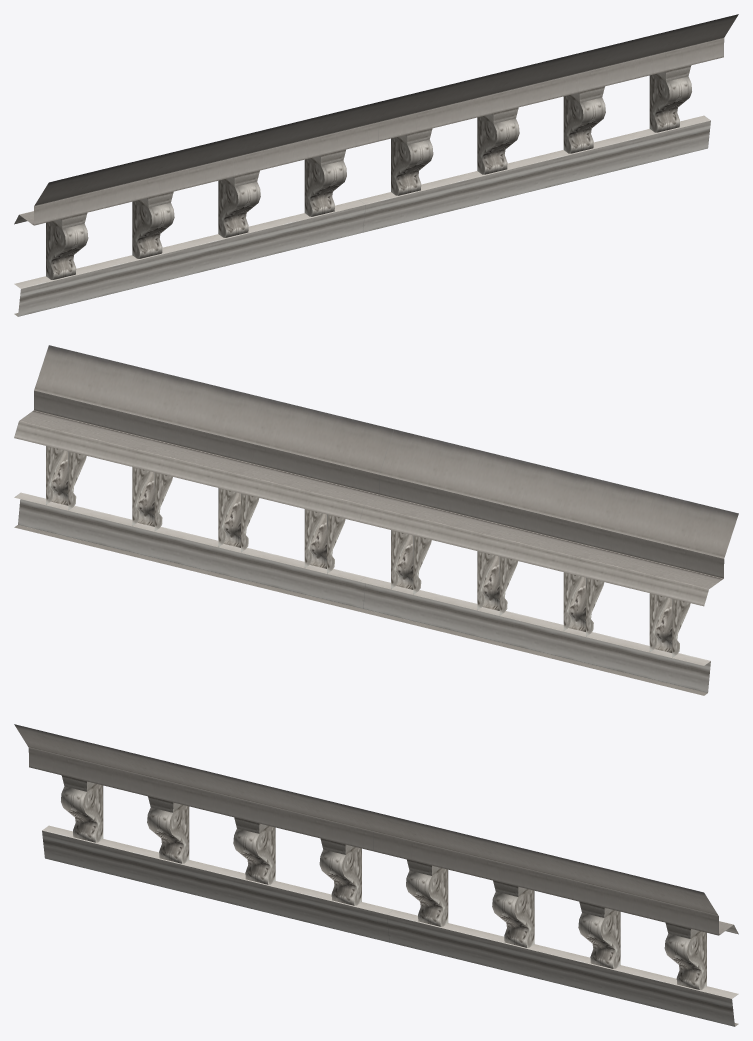
File: WallRoofline2B.fbx
3 views of the same model, one above another, from view 1: azimuth 30°, elevation 25°; view 2: azimuth 150°, elevation 25°; view 3: azimuth 330°, elevation 25° (orthographic).
Visible parts, largest first — view 1: WallRoofline2B; view 2: WallRoofline2B; view 3: WallRoofline2B.
Boxes of the visible parts, <box> form: WallRoofline2B: <box>14,14,738,316</box>; WallRoofline2B: <box>14,345,738,695</box>; WallRoofline2B: <box>14,724,738,1026</box>.
Bounding box in the file's own units: 400 × 86.98 × 35.
